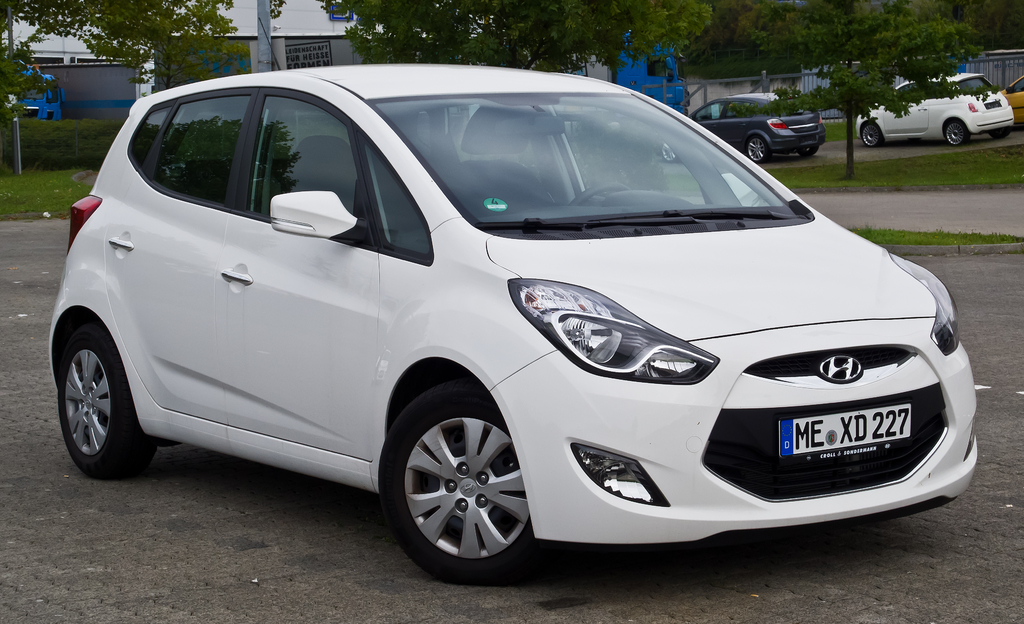Car: (55, 74, 987, 569), (658, 89, 826, 165), (860, 76, 1013, 147), (1007, 75, 1023, 129)
